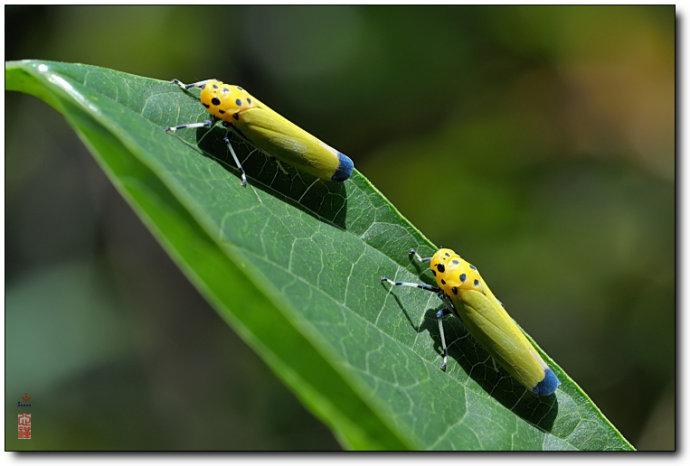Cicadellidae: (380, 247, 561, 396), (169, 78, 353, 187)
